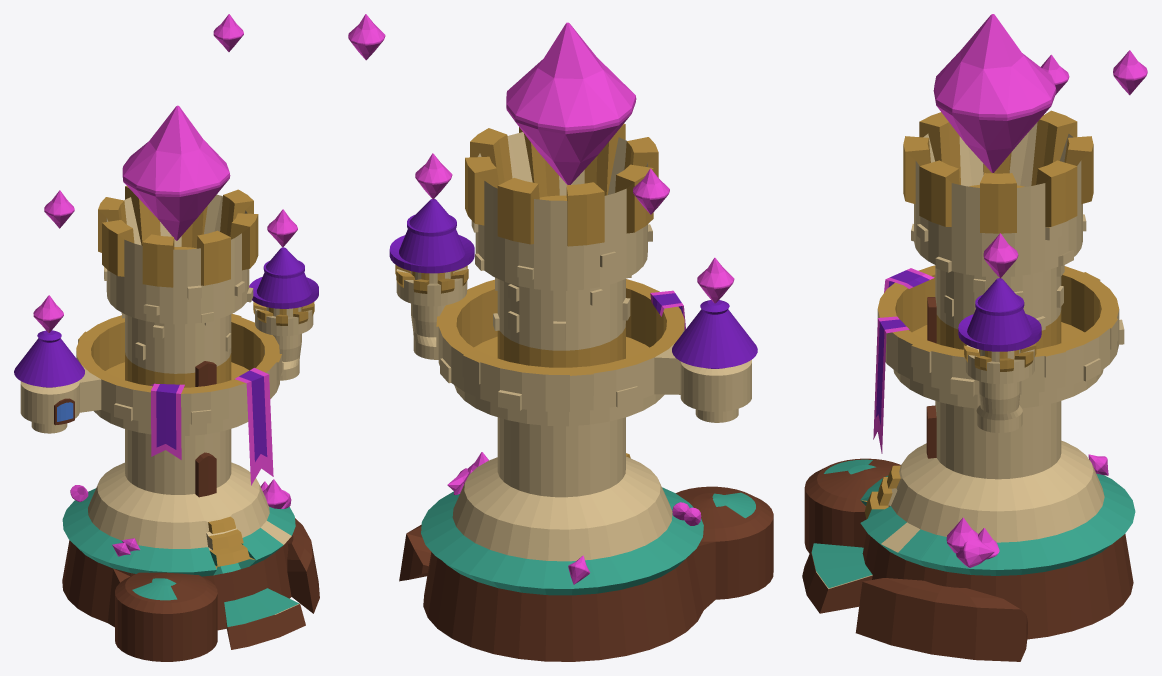
File: kule (2).fbx
3 renders of one model, left to right at view 1: azimuth 30°, elevation 25°; view 2: azimuth 150°, elevation 25°; view 3: azimuth 270°, elevation 25°, orthographic. The views are drawn at different scales.
Parts seen in each view (by area): view 1: Cylinder, Cylinder.004, Plane.001, Plane.002, Cylinder.003, Cylinder.001, Cylinder.002, Cylinder.007, Cylinder.008, Cylinder.006, Cylinder.005, Cylinder.009; view 2: Cylinder, Cylinder.004, Cylinder.001, Cylinder.005, Cylinder.006, Cylinder.007, Cylinder.008, Cylinder.002; view 3: Cylinder, Cylinder.004, Cylinder.001, Cylinder.003, Plane.001, Cylinder.006, Cylinder.008, Cylinder.011, Cylinder.009, Plane.002, Cylinder.007.
Boxes of the visible parts, x1,y1,x2,y2 form: Cylinder: (14, 186, 319, 661); Cylinder.004: (122, 105, 230, 240); Plane.001: (234, 368, 273, 485); Plane.002: (150, 383, 184, 459); Cylinder.003: (224, 588, 299, 626); Cylinder.001: (62, 488, 295, 568); Cylinder.002: (132, 578, 177, 600); Cylinder.007: (44, 190, 74, 228); Cylinder.008: (213, 14, 243, 51); Cylinder.006: (267, 209, 297, 247); Cylinder.005: (33, 295, 63, 332); Cylinder.009: (263, 479, 288, 508); Cylinder: (389, 123, 773, 661); Cylinder.004: (506, 22, 636, 184); Cylinder.001: (421, 491, 667, 588); Cylinder.005: (697, 257, 734, 303); Cylinder.006: (415, 153, 452, 199); Cylinder.007: (633, 168, 669, 214); Cylinder.008: (348, 14, 385, 60); Cylinder.002: (712, 492, 755, 518); Cylinder: (802, 110, 1133, 661); Cylinder.004: (933, 14, 1056, 172); Cylinder.001: (868, 473, 1135, 569); Cylinder.003: (811, 543, 872, 588); Plane.001: (873, 316, 909, 453); Cylinder.006: (983, 233, 1018, 278); Cylinder.008: (1113, 50, 1147, 95); Cylinder.011: (956, 538, 994, 567); Cylinder.009: (946, 517, 978, 553); Plane.002: (884, 268, 934, 292); Cylinder.007: (1041, 54, 1069, 94).
Size of the model in its own units: 827 by 1357 by 707.
